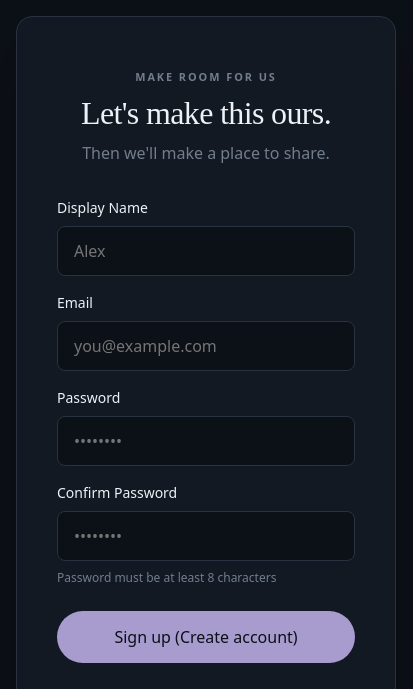
Test: Authentication Pages › Signup Page › shows error for short name
In the field labelled "Display Name": [206, 251] box [57, 226, 355, 276], type "A"
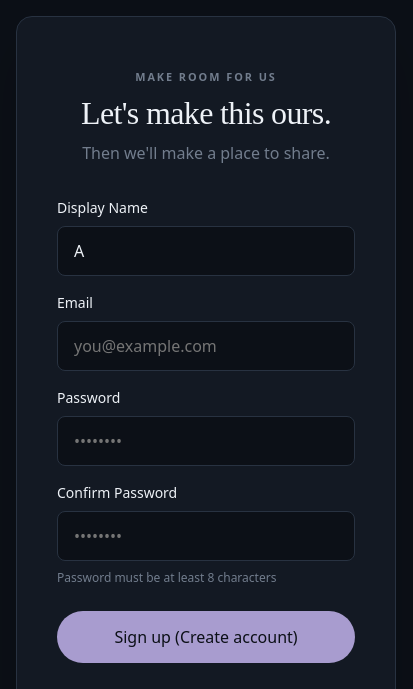
Click the button "Sign up (Create account)": [206, 637] box [57, 611, 355, 663]
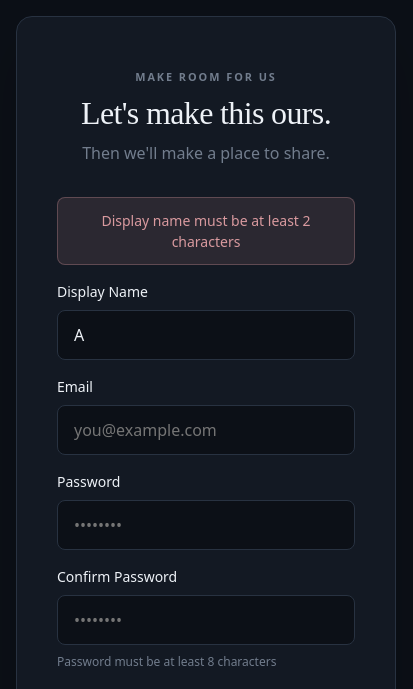
Expected: the message shows "at least 2 characters", [101, 211, 310, 251]
